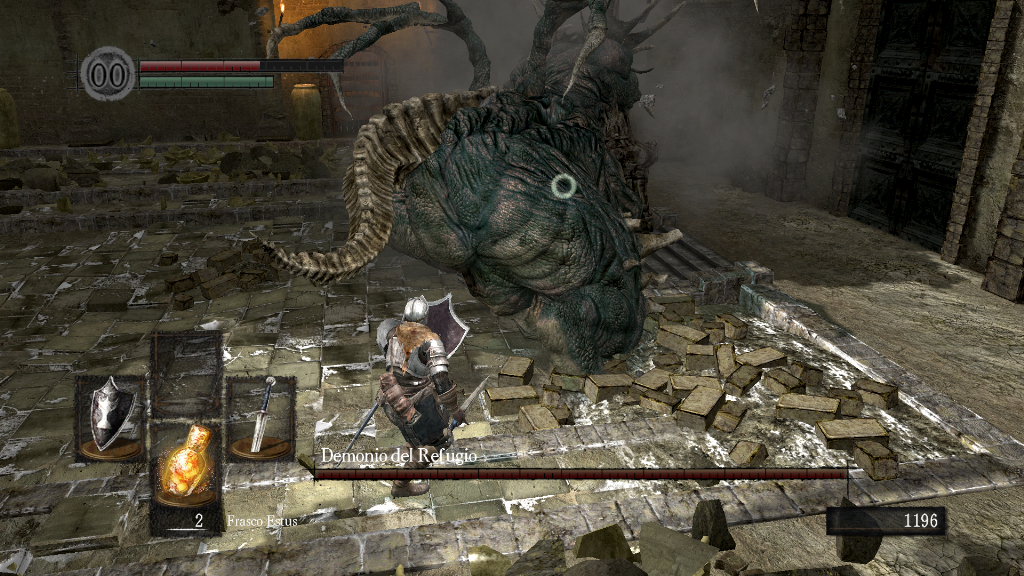asylumDemon: (246, 1, 763, 361)
bossHP: (314, 469, 847, 479)
health: (138, 58, 343, 71)
humanity: (80, 45, 136, 102)
player: (377, 292, 496, 499)
souls: (825, 506, 945, 536)
stamina: (138, 74, 274, 88)
